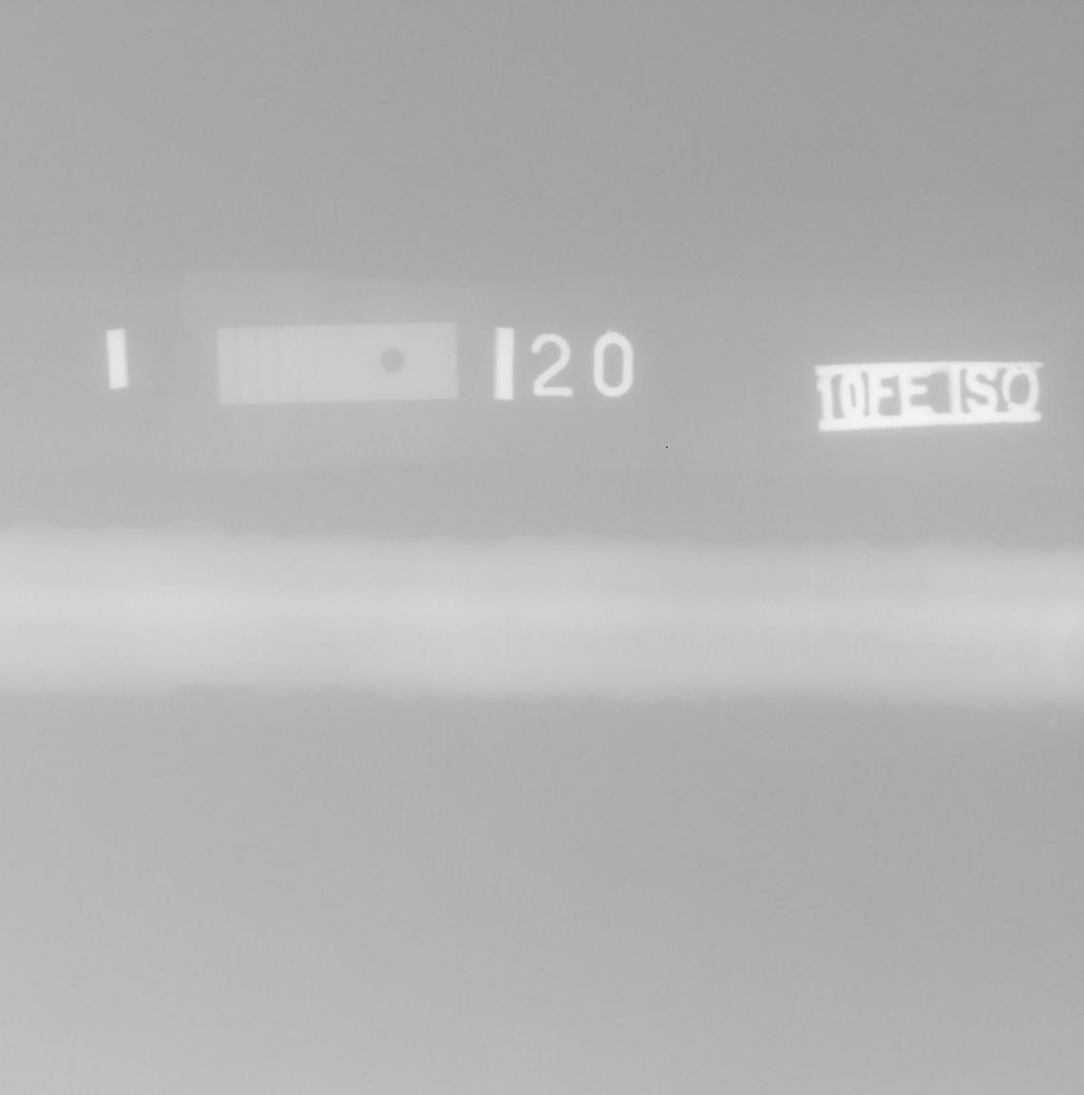Inclusion: (234, 551, 245, 555), (242, 557, 252, 561), (223, 554, 225, 557)
Pore/Porosity: (292, 569, 295, 572)
